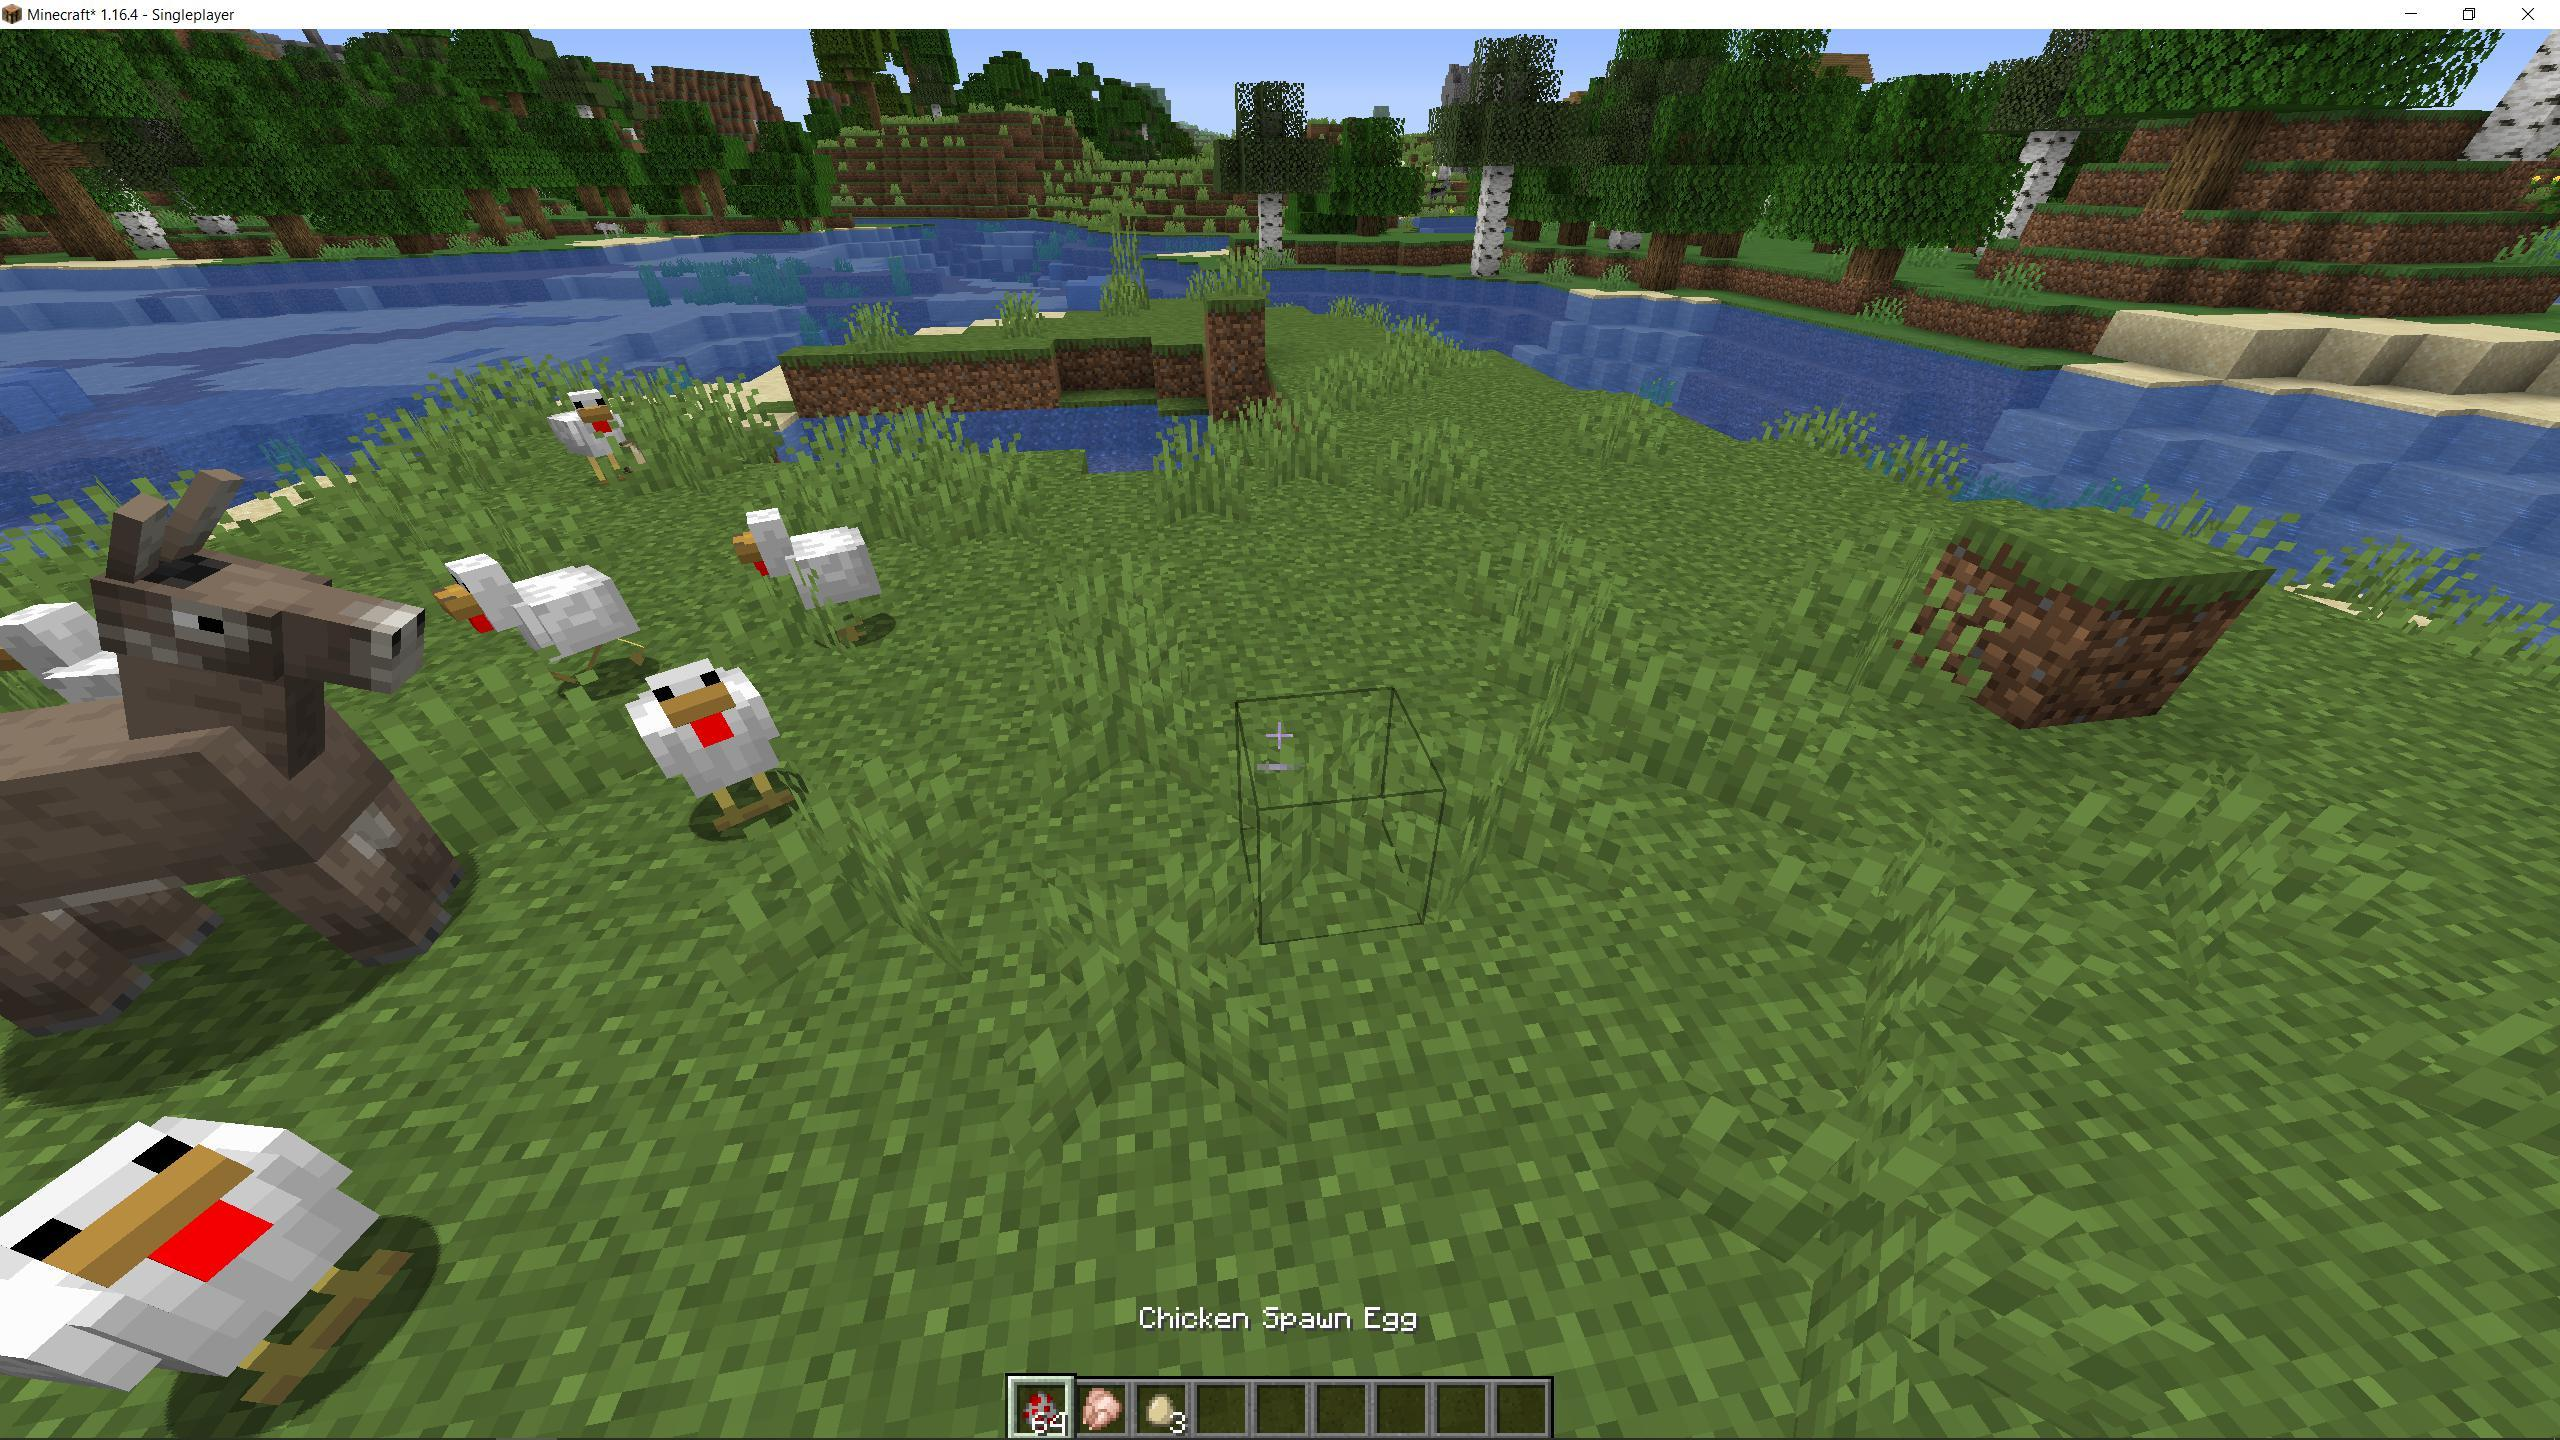chicken: (0, 1104, 420, 1422), (621, 649, 818, 835), (438, 543, 633, 698), (738, 499, 879, 633), (549, 387, 642, 466)
